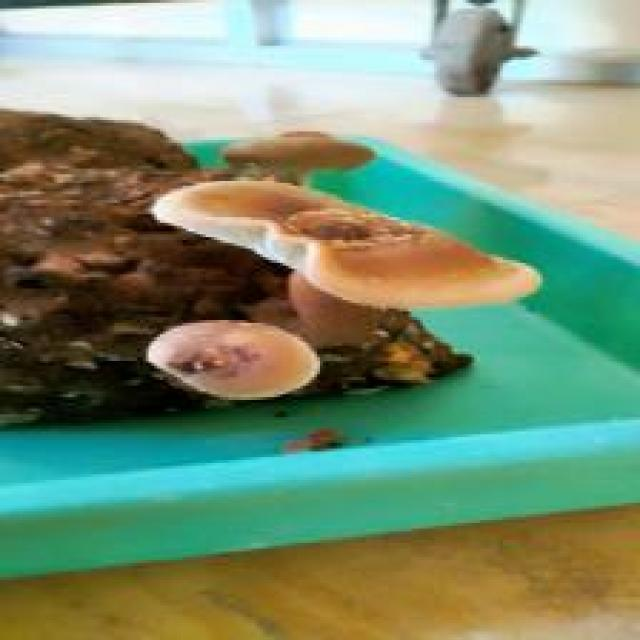death-cap: (143, 317, 320, 400)
